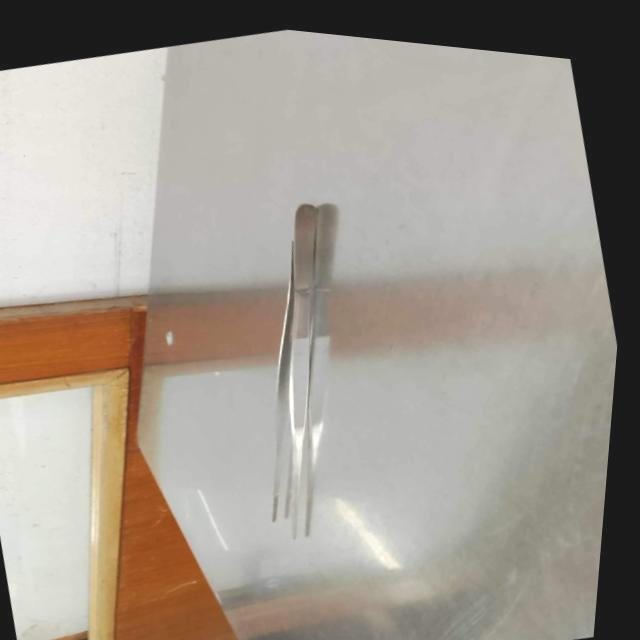Pathological: (2, 27, 620, 637)
Sharps: (269, 201, 327, 538), (292, 203, 318, 537), (270, 240, 295, 524)
